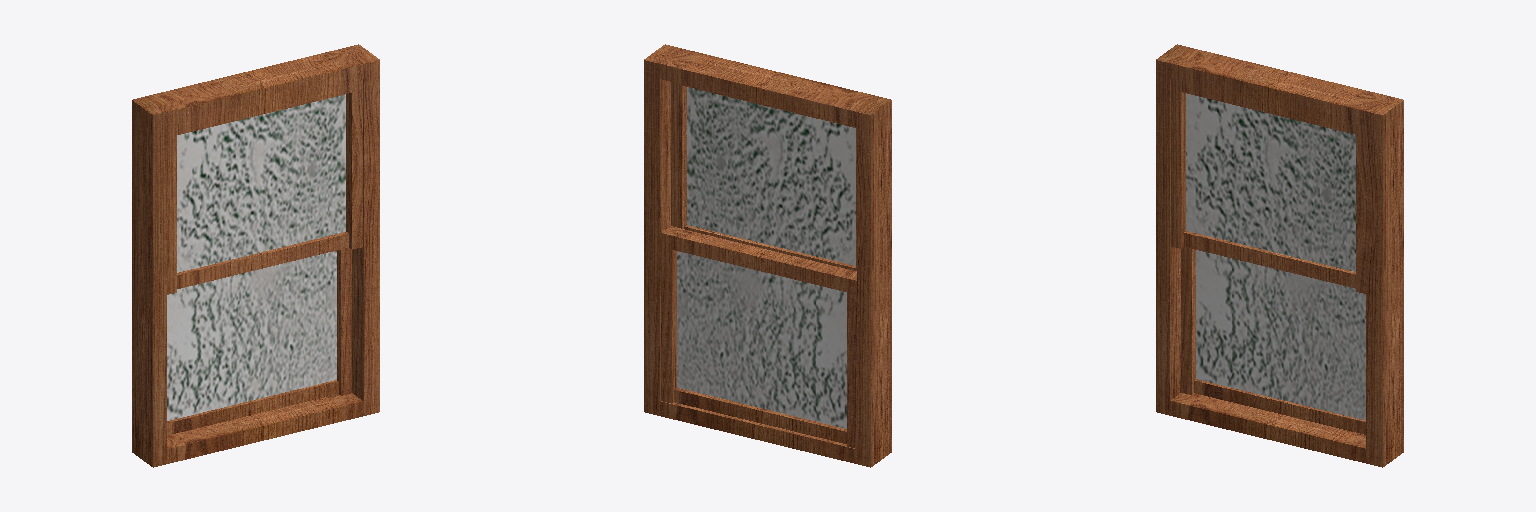
3 renders of one model, left to right at view 1: azimuth 30°, elevation 25°; view 2: azimuth 150°, elevation 25°; view 3: azimuth 330°, elevation 25°, orthographic.
Parts seen in each view (by area): view 1: Single_Hung; view 2: Single_Hung; view 3: Single_Hung.
Part boxes in pixels (bbox=[...]): Single_Hung: bbox=[132, 44, 379, 467]; Single_Hung: bbox=[644, 44, 891, 467]; Single_Hung: bbox=[1156, 44, 1403, 467].
Bounding box in the file's own units: 10.83 × 16.04 × 1.76.
2 materials, 2 textured.